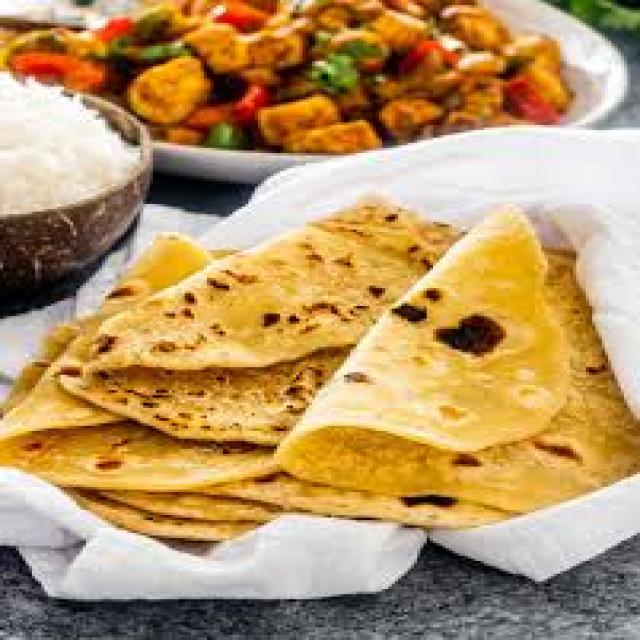ROTI: (280, 212, 637, 513), (57, 201, 459, 444), (0, 375, 277, 487)
